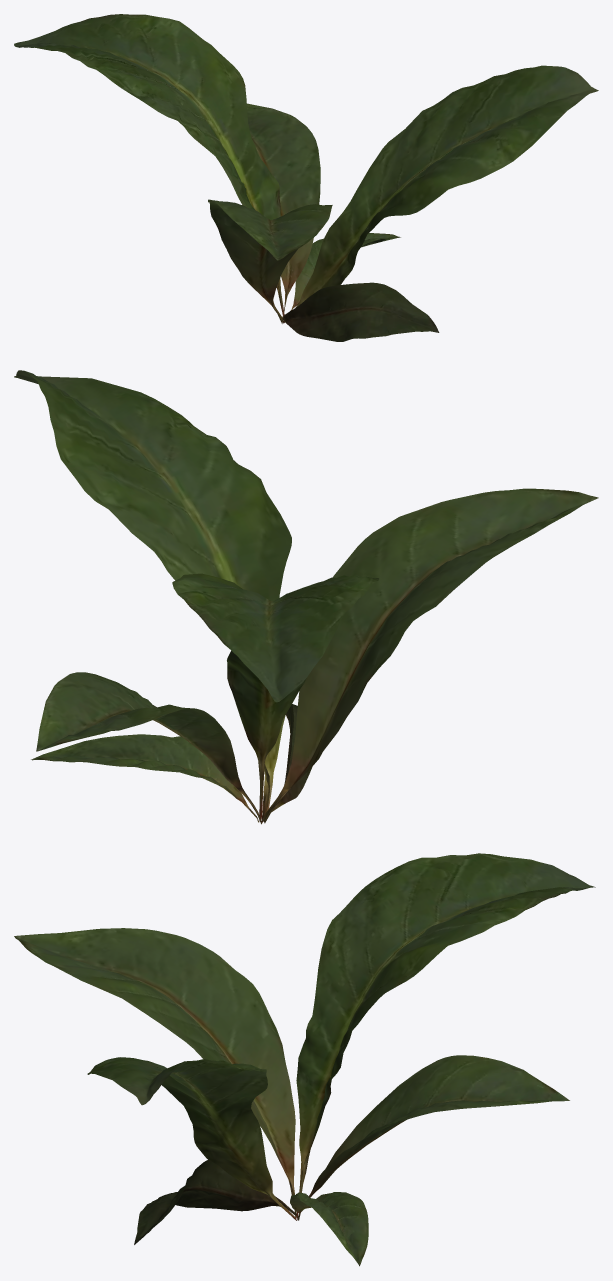
Rendered from leaf-anthurium.glb.
3 views of the same model, one above another, from view 1: azimuth 30°, elevation 25°; view 2: azimuth 150°, elevation 25°; view 3: azimuth 270°, elevation 25° (orthographic). The views are drawn at different scales.
Visible parts, largest first — view 1: anthurium_botany_01_c; view 2: anthurium_botany_01_c; view 3: anthurium_botany_01_c.
Part boxes in pixels (x1=…): anthurium_botany_01_c: x1=14, y1=14, x2=598, y2=341; anthurium_botany_01_c: x1=14, y1=370, x2=598, y2=824; anthurium_botany_01_c: x1=14, y1=853, x2=595, y2=1266.
Bounding box in the file's own units: 0.6007 × 0.3584 × 0.6574.
1 material, 1 textured.
